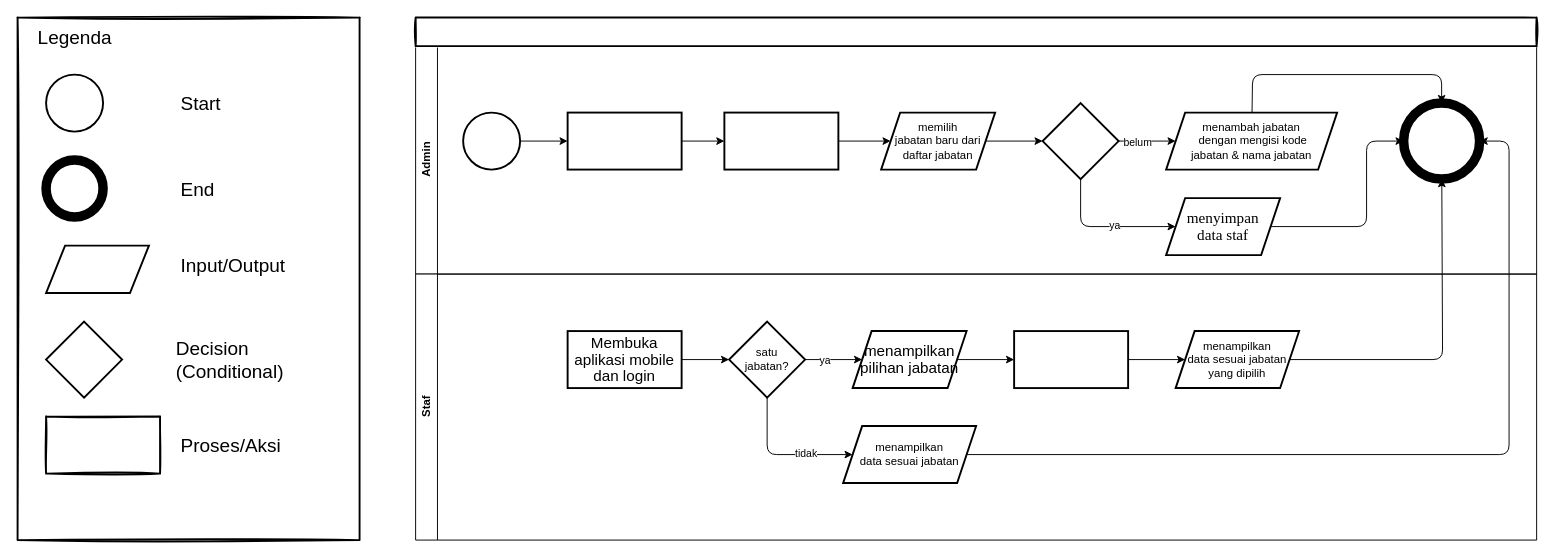
This 1553x557 diagram has some shape labels left out. Each missing label, with the centre of its shape:
Business Process "Multi Jabatan": (975,31)
Membuka menu Staf di aplikasi web: (624,140)
memilih jabatan: (1071,359)
Memilih staf yang akan ditambah jabatan: (781,140)
tersedia?: (1080,141)
